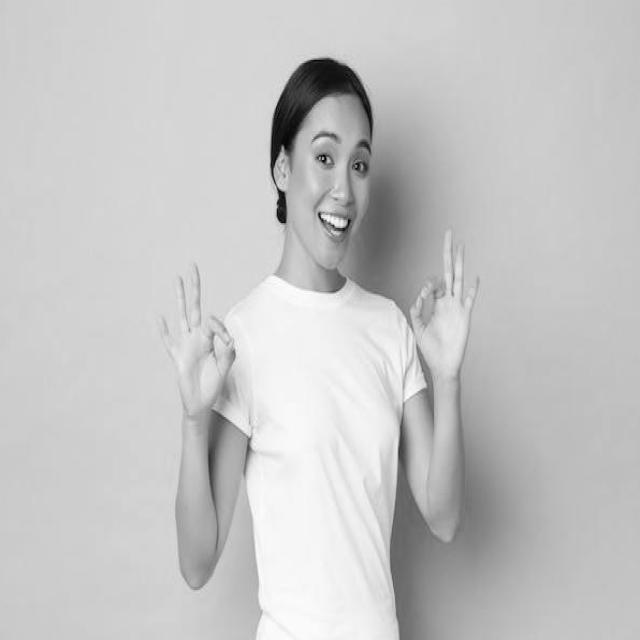perfect: (156, 253, 239, 425), (408, 220, 483, 382)
